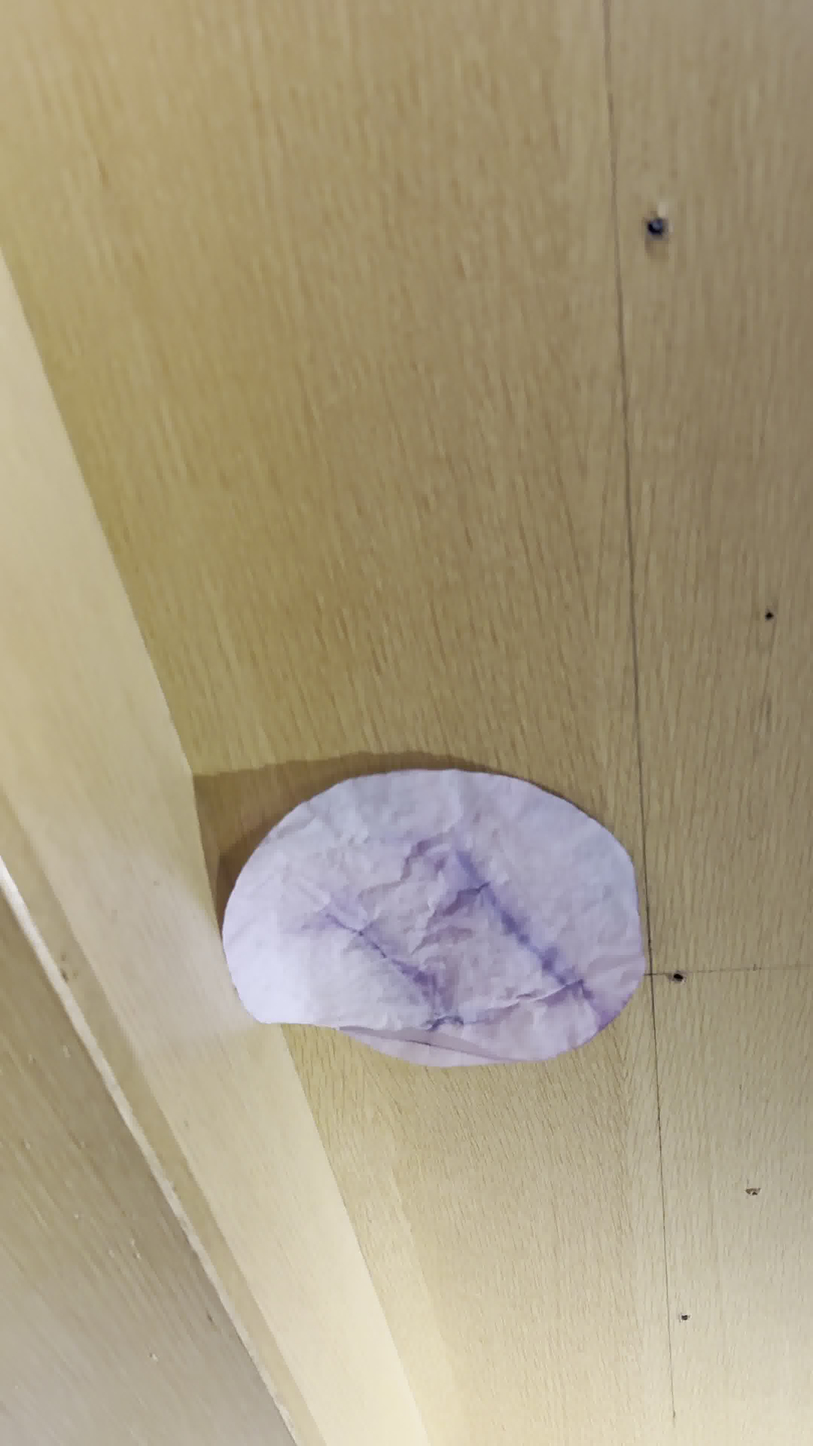Target: (224, 769, 641, 1068)
